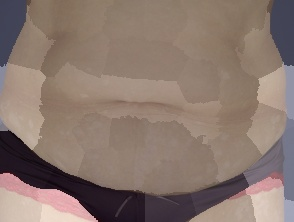vitiligo: (0, 93, 288, 203)
